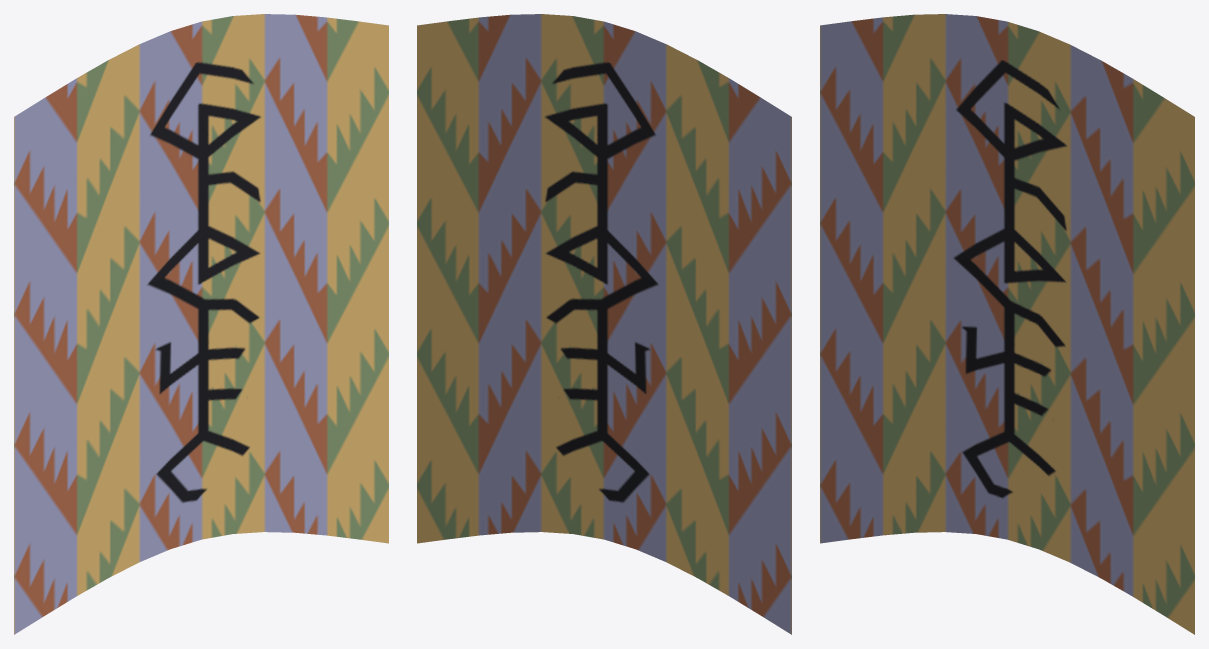
File: flag-S00C.fbx
3 renders of one model, left to right at view 1: azimuth 30°, elevation 25°; view 2: azimuth 150°, elevation 25°; view 3: azimuth 330°, elevation 25°, orthographic.
Parts seen in each view (by area): view 1: Plane; view 2: Plane; view 3: Plane.
Part boxes in pixels (x1,y1,x2,y2): Plane: [14, 14, 388, 634]; Plane: [417, 14, 791, 634]; Plane: [820, 14, 1194, 634].
Bounding box in the file's own units: 100 × 145 × 3.7e-05.
